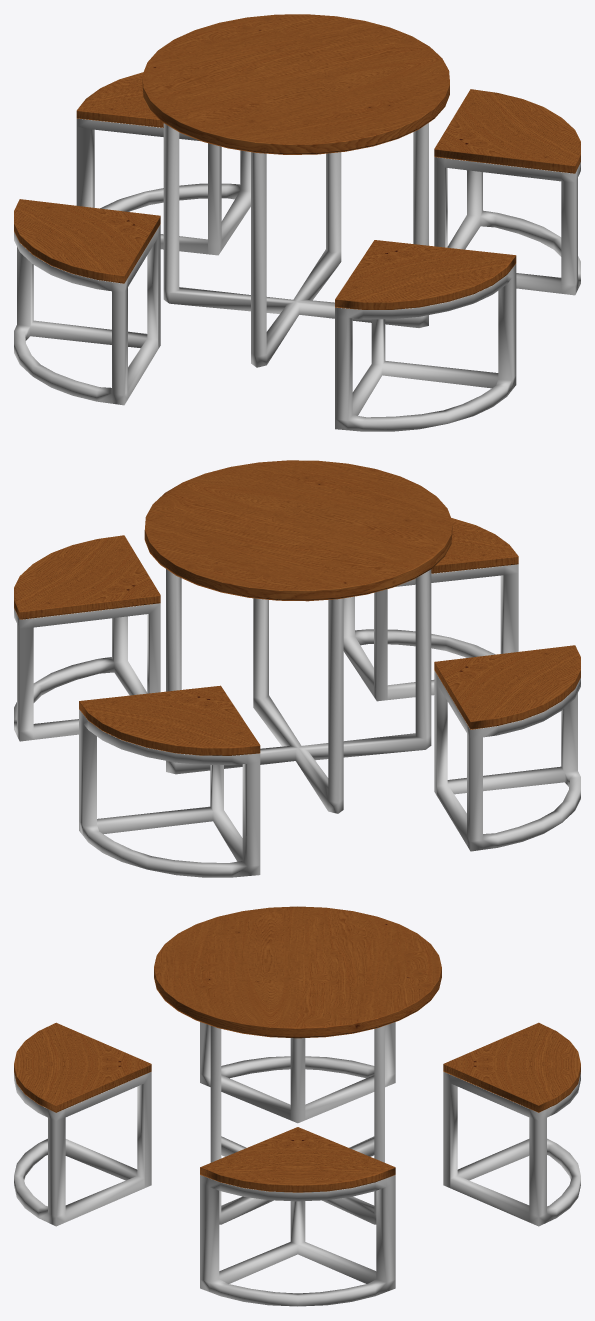
Rendered from Comedor_4.fbx.
3 views of the same model, one above another, from view 1: azimuth 30°, elevation 25°; view 2: azimuth 150°, elevation 25°; view 3: azimuth 270°, elevation 25° (orthographic). The views are drawn at different scales.
Visible parts, largest first — view 1: Meja kaki_kaki meja_0; view 2: Meja kaki_kaki meja_0; view 3: Meja kaki_kaki meja_0.
Boxes of the visible parts, x1,y1,x2,y2 form: Meja kaki_kaki meja_0: (14,14,580,431); Meja kaki_kaki meja_0: (14,460,580,877); Meja kaki_kaki meja_0: (14,906,580,1306).
Bounding box in the file's own units: 259 × 109 × 257.
